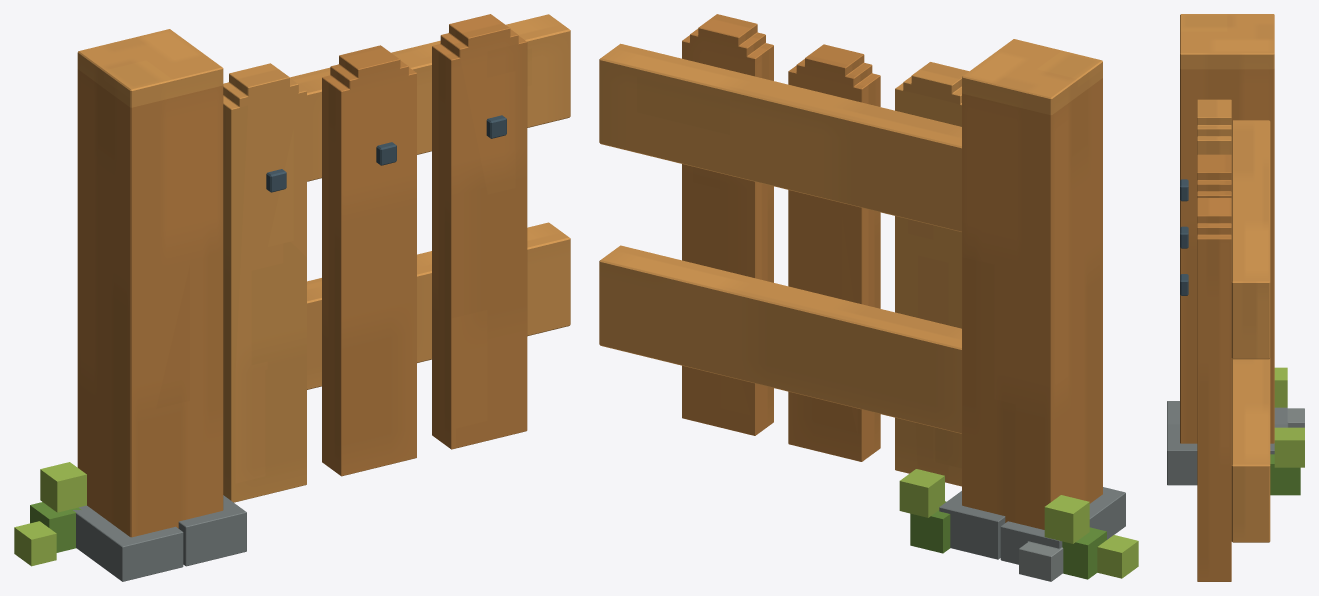
File: SM_VMF_Fence_Picket_Straight.fbx
3 views of the same model, side by side, from view 1: azimuth 30°, elevation 25°; view 2: azimuth 150°, elevation 25°; view 3: azimuth 270°, elevation 25° (orthographic). The views are drawn at different scales.
Visible parts, largest first — view 1: SM_VMF_Fence_Picket_Straight_SpanX_Pickets, SM_VMF_Fence_Picket_Straight_Post_Post, SM_VMF_Fence_Picket_Straight_SpanX_Rails, SM_VMF_Fence_Picket_Straight_Post_Foot_Stones, SM_VMF_Fence_Picket_Straight_Post_Grass_Blocks; view 2: SM_VMF_Fence_Picket_Straight_SpanX_Rails, SM_VMF_Fence_Picket_Straight_Post_Post, SM_VMF_Fence_Picket_Straight_SpanX_Pickets, SM_VMF_Fence_Picket_Straight_Post_Grass_Blocks, SM_VMF_Fence_Picket_Straight_Post_Foot_Stones; view 3: SM_VMF_Fence_Picket_Straight_SpanX_Rails, SM_VMF_Fence_Picket_Straight_SpanX_Pickets, SM_VMF_Fence_Picket_Straight_Post_Post, SM_VMF_Fence_Picket_Straight_Post_Grass_Blocks, SM_VMF_Fence_Picket_Straight_Post_Foot_Stones, SM_VMF_Fence_Picket_Straight_SpanX_PicketBolt0, SM_VMF_Fence_Picket_Straight_SpanX_PicketBolt1.
Part boxes in pixels (<box>): SM_VMF_Fence_Picket_Straight_SpanX_Pickets: <box>223,14,527,502</box>; SM_VMF_Fence_Picket_Straight_Post_Post: <box>77,29,223,537</box>; SM_VMF_Fence_Picket_Straight_SpanX_Rails: <box>290,14,570,389</box>; SM_VMF_Fence_Picket_Straight_Post_Foot_Stones: <box>73,495,246,581</box>; SM_VMF_Fence_Picket_Straight_Post_Grass_Blocks: <box>14,462,86,566</box>; SM_VMF_Fence_Picket_Straight_SpanX_Rails: <box>599,43,961,433</box>; SM_VMF_Fence_Picket_Straight_Post_Post: <box>962,39,1102,529</box>; SM_VMF_Fence_Picket_Straight_SpanX_Pickets: <box>682,14,968,486</box>; SM_VMF_Fence_Picket_Straight_Post_Grass_Blocks: <box>899,469,1138,579</box>; SM_VMF_Fence_Picket_Straight_Post_Foot_Stones: <box>939,487,1125,581</box>; SM_VMF_Fence_Picket_Straight_SpanX_Rails: <box>1231,120,1270,542</box>; SM_VMF_Fence_Picket_Straight_SpanX_Pickets: <box>1197,99,1231,581</box>; SM_VMF_Fence_Picket_Straight_Post_Post: <box>1180,14,1274,443</box>; SM_VMF_Fence_Picket_Straight_Post_Grass_Blocks: <box>1270,367,1304,495</box>; SM_VMF_Fence_Picket_Straight_Post_Foot_Stones: <box>1167,401,1304,485</box>; SM_VMF_Fence_Picket_Straight_SpanX_PicketBolt0: <box>1180,179,1188,201</box>; SM_VMF_Fence_Picket_Straight_SpanX_PicketBolt1: <box>1180,226,1188,248</box>.
Size of the model in its own units: 127 by 109 by 32.
Materials: 1 (1 with a texture image).
